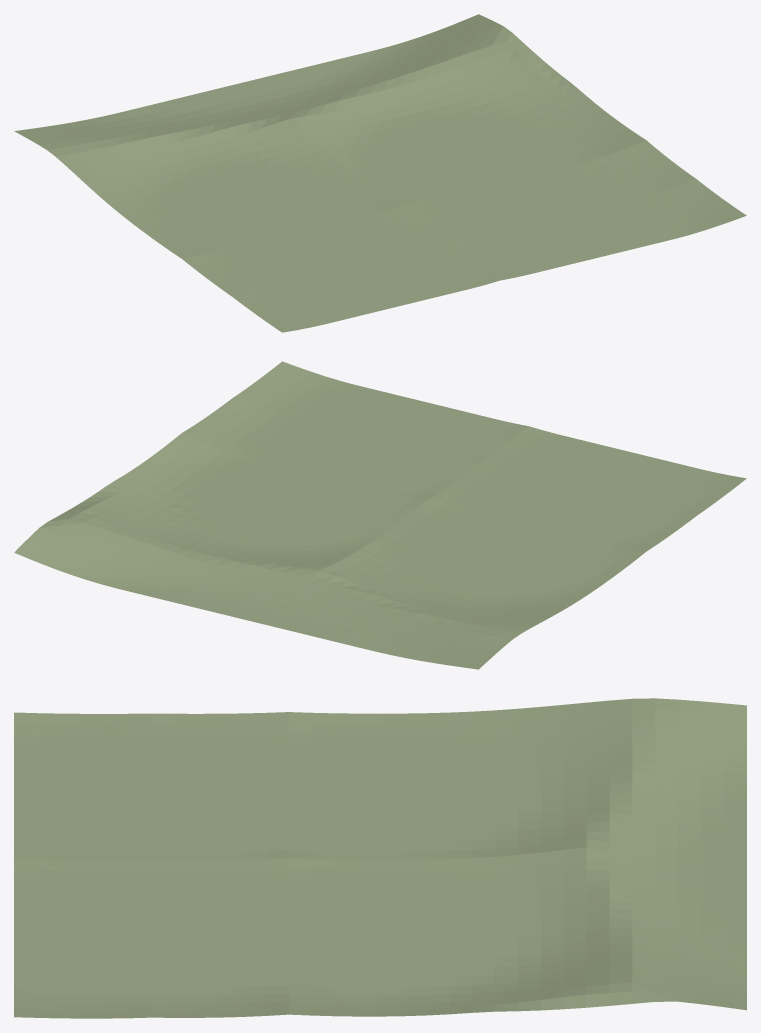
Rendered from gardens-6-3.glb.
3 renders of one model, top to bottom at view 1: azimuth 30°, elevation 25°; view 2: azimuth 150°, elevation 25°; view 3: azimuth 270°, elevation 25°, orthographic. The views are drawn at different scales.
Parts seen in each view (by area): view 1: gardens-6-3; view 2: gardens-6-3; view 3: gardens-6-3.
Boxes of the visible parts, x1,y1,x2,y2 form: gardens-6-3: (14, 14, 746, 332); gardens-6-3: (14, 361, 746, 669); gardens-6-3: (14, 698, 746, 1018).
Size of the model in its own units: 256 by 9.17 by 256.
